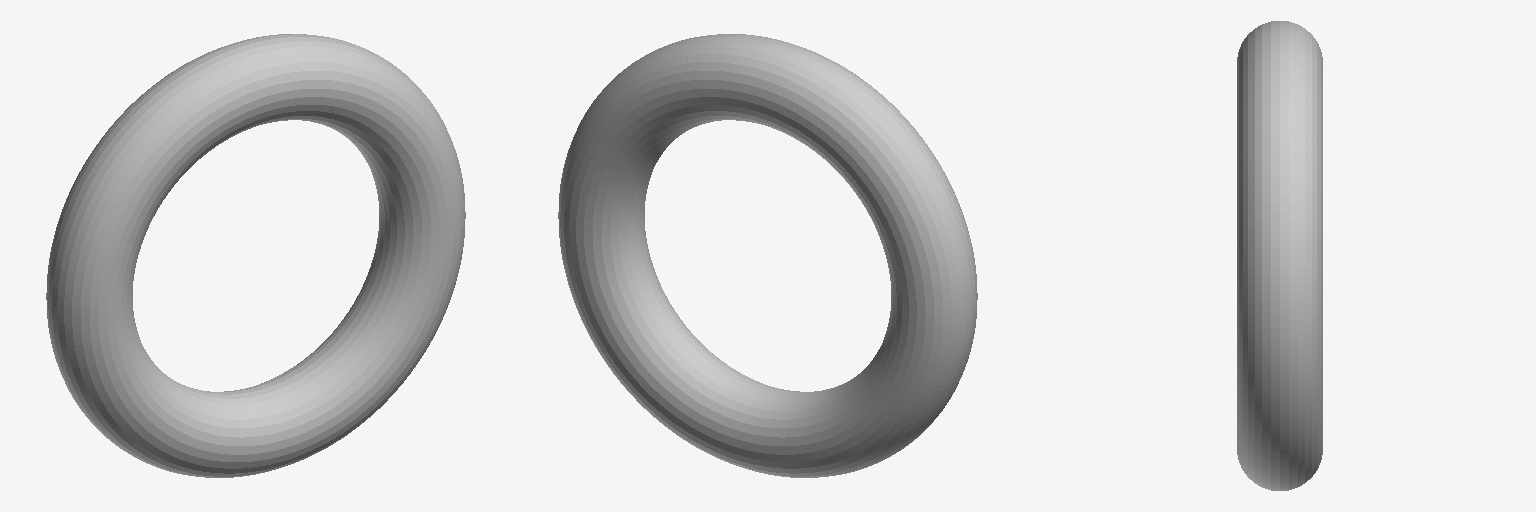
File: tunnel.obj
The picture shows the model from 3 angles: view 1: azimuth 30°, elevation 25°; view 2: azimuth 150°, elevation 25°; view 3: azimuth 270°, elevation 25°; orthographic projection.
Visible parts, largest first — view 1: pTorus1; view 2: pTorus1; view 3: pTorus1.
Boxes of the visible parts, x1=… form: pTorus1: x1=46, y1=34, x2=465, y2=477; pTorus1: x1=558, y1=34, x2=977, y2=477; pTorus1: x1=1237, y1=21, x2=1322, y2=490.
Bounding box in the file's own units: 9.8 × 9.8 × 1.79.